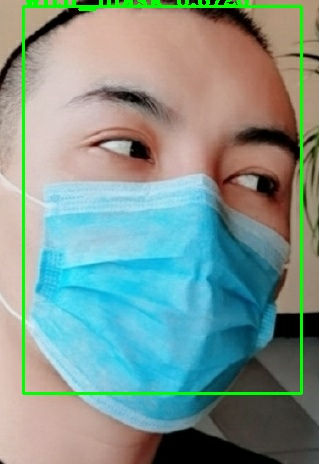with_mask: (2, 1, 319, 430)
